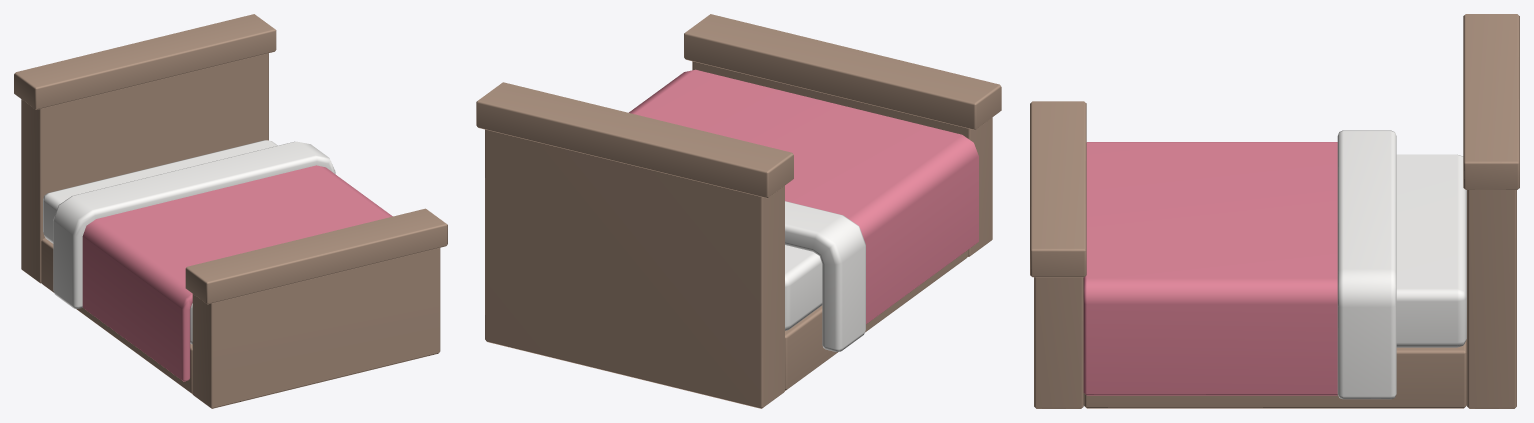
File: Bed_1.glb
3 renders of one model, left to right at view 1: azimuth 30°, elevation 25°; view 2: azimuth 150°, elevation 25°; view 3: azimuth 270°, elevation 25°, orthographic. The views are drawn at different scales.
Visible parts, largest first — view 1: Bed_2; view 2: Bed_2; view 3: Bed_2.
Boxes of the visible parts, <box> form: Bed_2: <box>14,14,447,408</box>; Bed_2: <box>476,14,1001,408</box>; Bed_2: <box>1030,14,1519,408</box>.
Size of the model in its own units: 2.14 by 1.55 by 2.73.
1 material, 1 textured.
